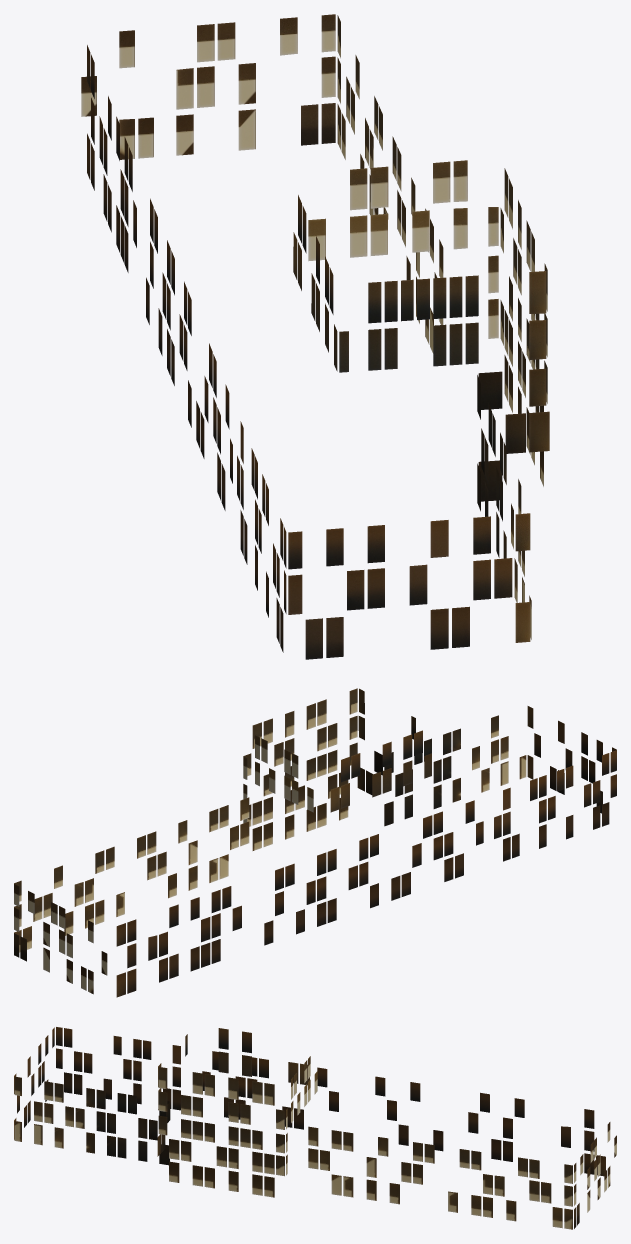
File: Building_08_Glass.fbx
3 views of the same model, one above another, from view 1: azimuth 30°, elevation 25°; view 2: azimuth 150°, elevation 25°; view 3: azimuth 270°, elevation 25° (orthographic). The views are drawn at different scales.
Visible parts, largest first — view 1: Building_08_Glass; view 2: Building_08_Glass; view 3: Building_08_Glass.
Boxes of the visible parts, left/top/right/bottom form: Building_08_Glass: left=81, top=14, right=549, bottom=659; Building_08_Glass: left=14, top=688, right=616, bottom=997; Building_08_Glass: left=14, top=1027, right=616, bottom=1229.
Size of the model in its own units: 38.8 by 14.78 by 71.28.
Materials: 1 (1 with a texture image).
